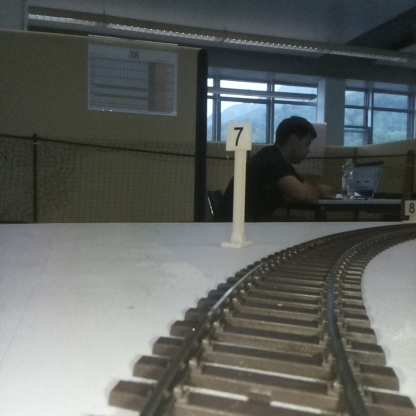white-info-7: (226, 123, 251, 244)
